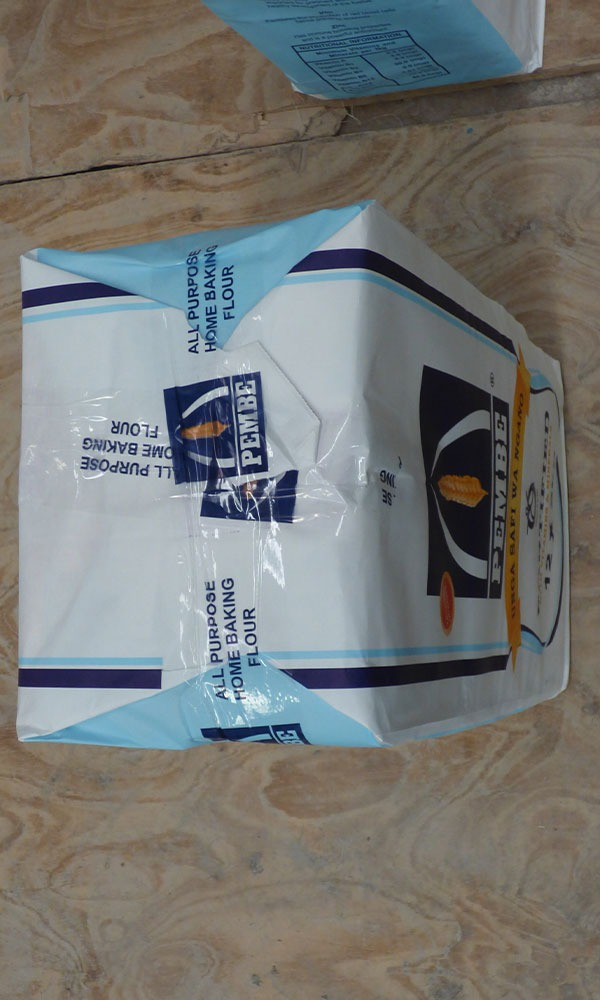wheat_flour_blue_label: (25, 204, 567, 710)
